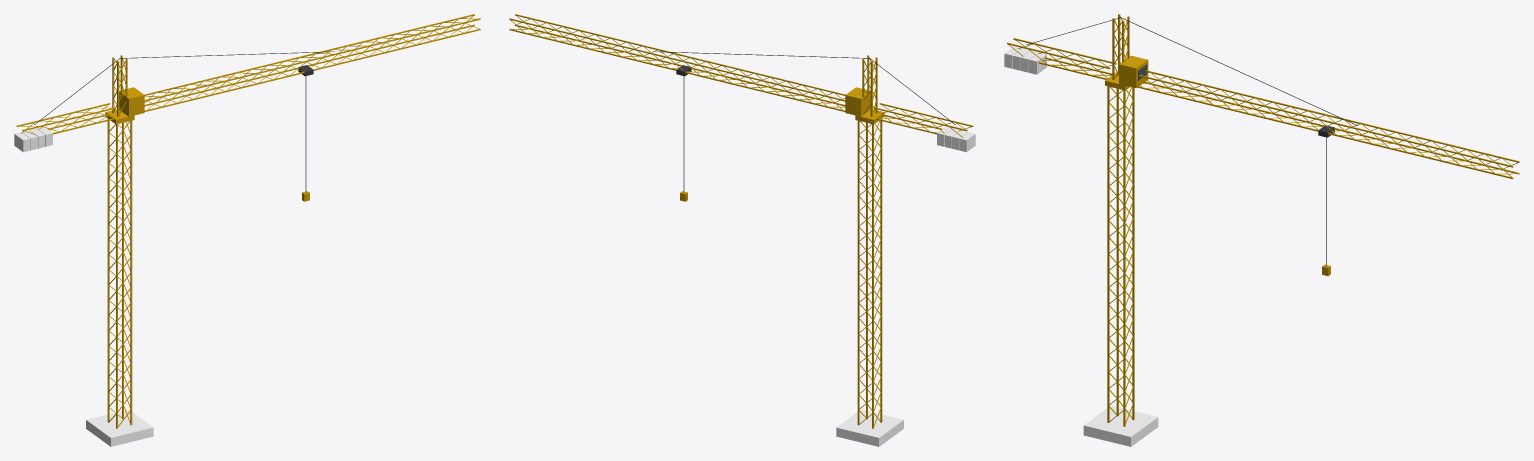
Rendered from tower_crane.glb.
The picture shows the model from 3 angles, left to right: view 1: azimuth 30°, elevation 25°; view 2: azimuth 150°, elevation 25°; view 3: azimuth 330°, elevation 25°; orthographic projection. The views are drawn at different scales.
Parts seen in each view (by area): view 1: tower_crane_M_CraneYellow, tower_crane_T_concrete, tower_crane_M_SteelDark; view 2: tower_crane_M_CraneYellow, tower_crane_T_concrete, tower_crane_M_SteelDark; view 3: tower_crane_M_CraneYellow, tower_crane_T_concrete, tower_crane_M_SteelDark.
Boxes of the visible parts, x1,y1,x2,y2 form: tower_crane_M_CraneYellow: (16, 14, 480, 428); tower_crane_T_concrete: (14, 127, 153, 446); tower_crane_M_SteelDark: (34, 51, 334, 192); tower_crane_M_CraneYellow: (509, 14, 973, 428); tower_crane_T_concrete: (836, 126, 975, 446); tower_crane_M_SteelDark: (655, 51, 955, 192); tower_crane_M_CraneYellow: (1007, 14, 1519, 426); tower_crane_T_concrete: (1004, 46, 1158, 446); tower_crane_M_SteelDark: (1026, 17, 1357, 266).
Size of the model in its own units: 64.17 by 50.02 by 6.
